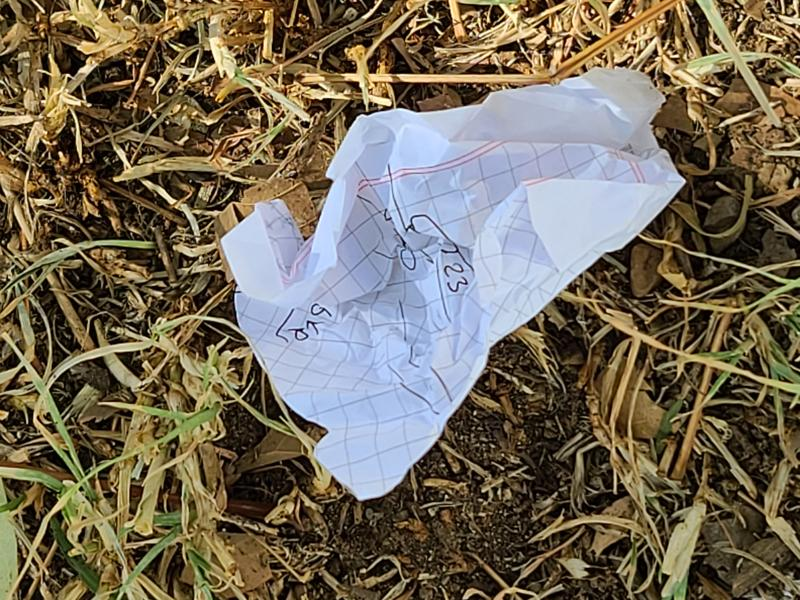papel: (221, 67, 687, 501)
